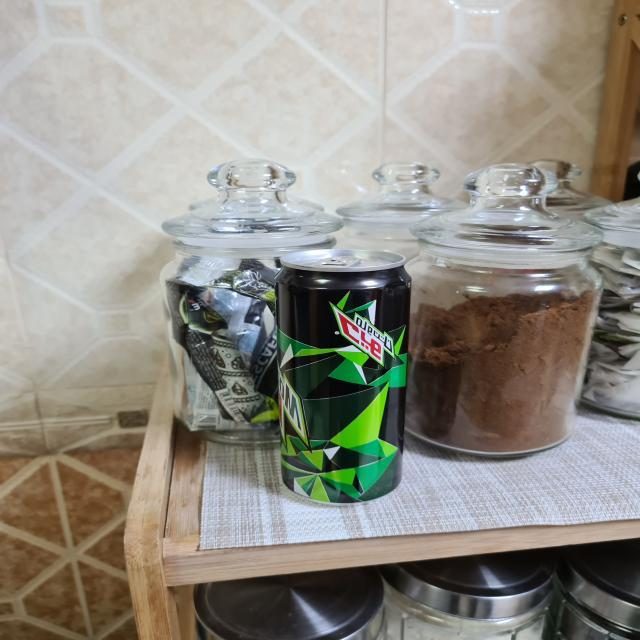can: (263, 240, 419, 500)
